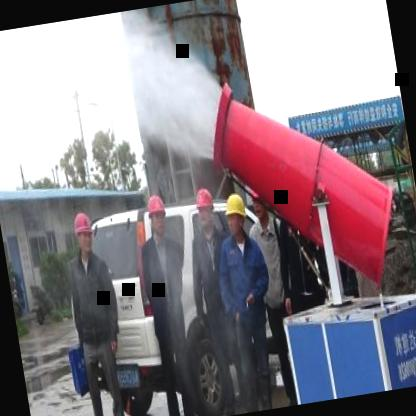helmet: (220, 188, 253, 242), (141, 189, 173, 244), (190, 181, 217, 231), (69, 208, 98, 254)
